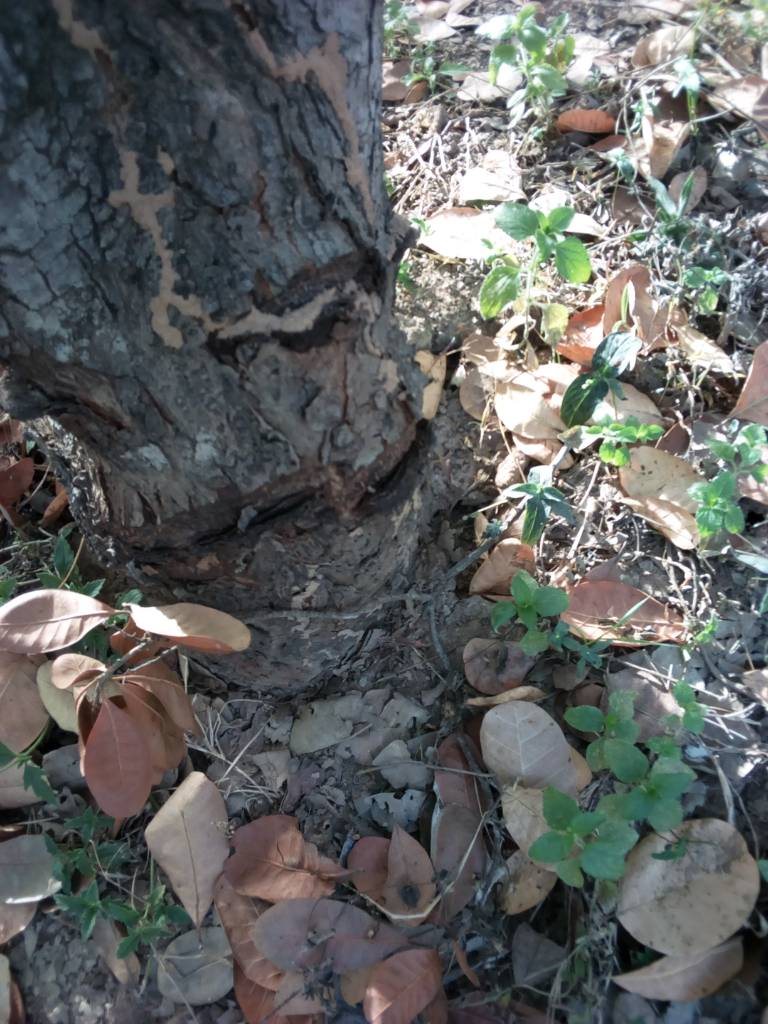Termites: (271, 310, 443, 496), (257, 25, 379, 230), (118, 153, 232, 358)
